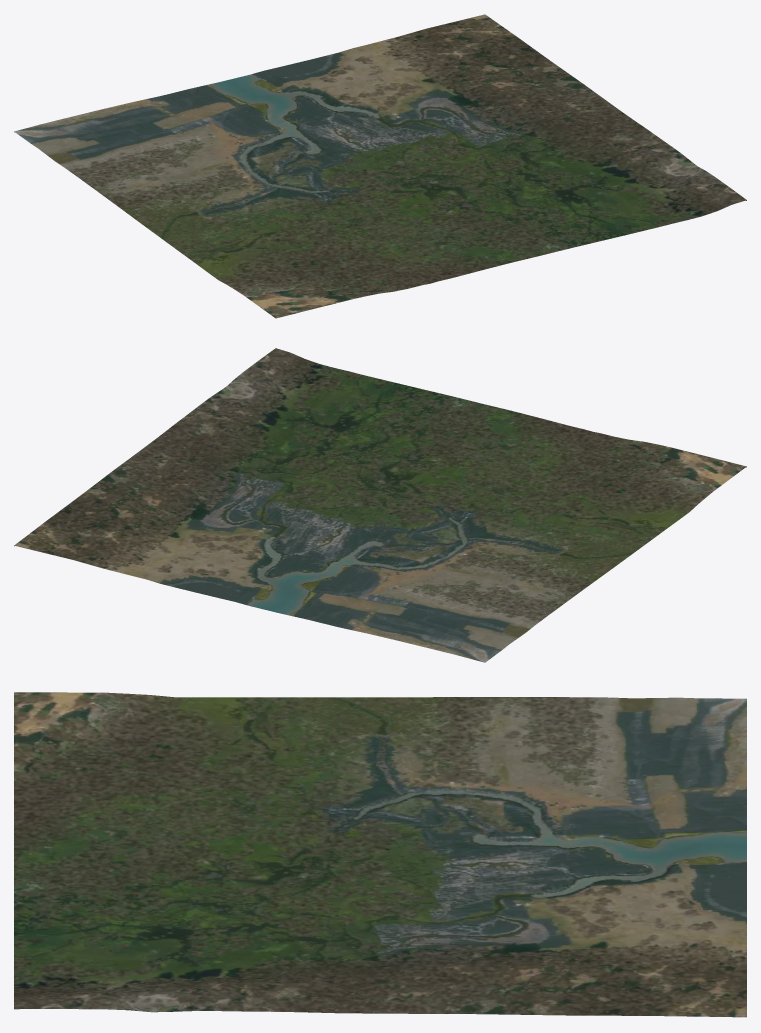
The picture shows the model from 3 angles, top to bottom: view 1: azimuth 30°, elevation 25°; view 2: azimuth 150°, elevation 25°; view 3: azimuth 270°, elevation 25°; orthographic projection. The views are drawn at different scales.
Bounding box in the file's own units: 500 × 10.09 × 481.
1 material, 1 textured.
